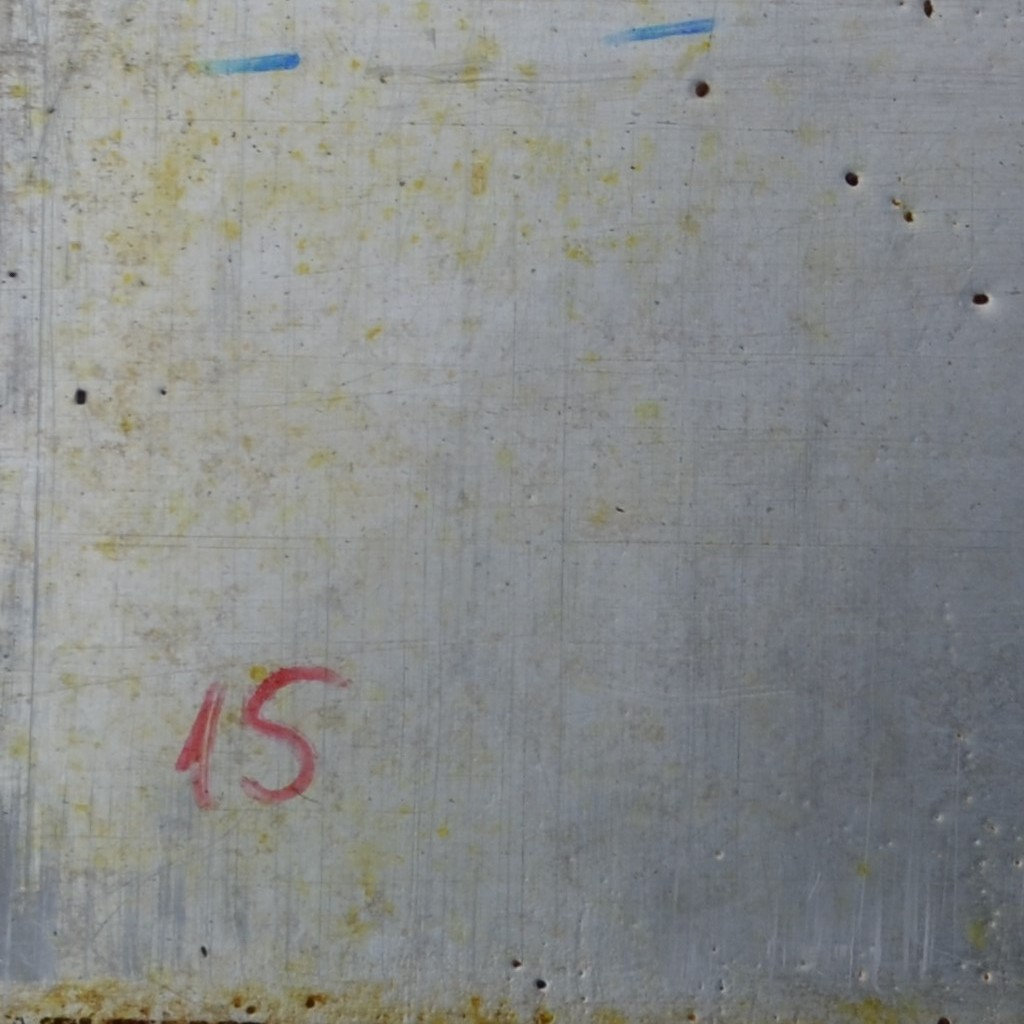varroa: (842, 168, 860, 188), (970, 289, 991, 306), (694, 81, 709, 101), (921, 0, 934, 18)
